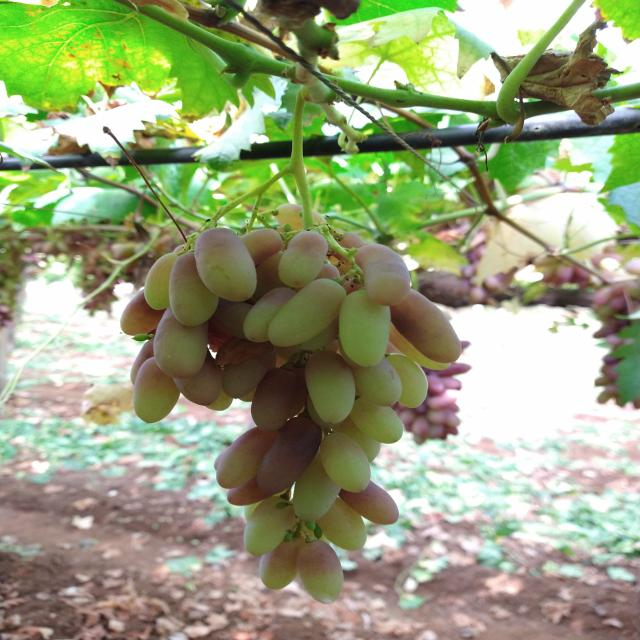grapes: (389, 288, 462, 363), (267, 278, 347, 346), (257, 416, 322, 494), (194, 228, 257, 302), (339, 289, 392, 367), (154, 306, 209, 380), (216, 426, 280, 489), (305, 350, 355, 424), (169, 253, 219, 326), (293, 447, 341, 521), (354, 243, 410, 306), (133, 357, 180, 424), (388, 322, 451, 371), (320, 432, 371, 492), (251, 367, 298, 432), (243, 497, 295, 555), (243, 288, 297, 342), (299, 540, 344, 604), (315, 496, 367, 550), (279, 231, 328, 287), (337, 480, 399, 524), (350, 356, 402, 407), (259, 536, 307, 590), (349, 396, 403, 444), (222, 351, 276, 398), (332, 414, 381, 463), (172, 358, 222, 406), (386, 353, 428, 408), (120, 288, 168, 336), (252, 251, 294, 301), (144, 252, 179, 310), (209, 296, 254, 341), (239, 228, 284, 266), (244, 488, 291, 522), (296, 314, 340, 350), (227, 474, 275, 506), (274, 203, 327, 230), (307, 393, 344, 429), (329, 232, 367, 266), (130, 337, 154, 386), (288, 366, 309, 419), (295, 518, 331, 546), (338, 336, 363, 368), (204, 388, 233, 411), (594, 286, 625, 304), (436, 362, 471, 377), (272, 346, 304, 362), (425, 375, 446, 396), (314, 264, 340, 280), (411, 415, 429, 438), (214, 446, 230, 471), (424, 409, 449, 425), (238, 384, 259, 402), (342, 278, 363, 296), (604, 364, 625, 382), (570, 264, 590, 282), (440, 376, 462, 391), (554, 263, 572, 281), (610, 295, 628, 312), (401, 410, 418, 426), (469, 288, 486, 304), (427, 424, 445, 439), (444, 412, 460, 428), (484, 277, 501, 292), (426, 397, 447, 409), (594, 376, 616, 387), (602, 352, 622, 364), (442, 389, 457, 404), (605, 384, 623, 396), (596, 391, 612, 404), (323, 340, 340, 352), (594, 328, 612, 339), (464, 264, 478, 278), (608, 334, 622, 347), (412, 433, 426, 445), (397, 400, 410, 411), (445, 403, 459, 413), (622, 336, 636, 346), (446, 425, 458, 436), (470, 275, 482, 286), (330, 229, 346, 237), (616, 395, 625, 408), (633, 395, 640, 410), (173, 244, 184, 253), (392, 407, 402, 415), (460, 341, 470, 348)
